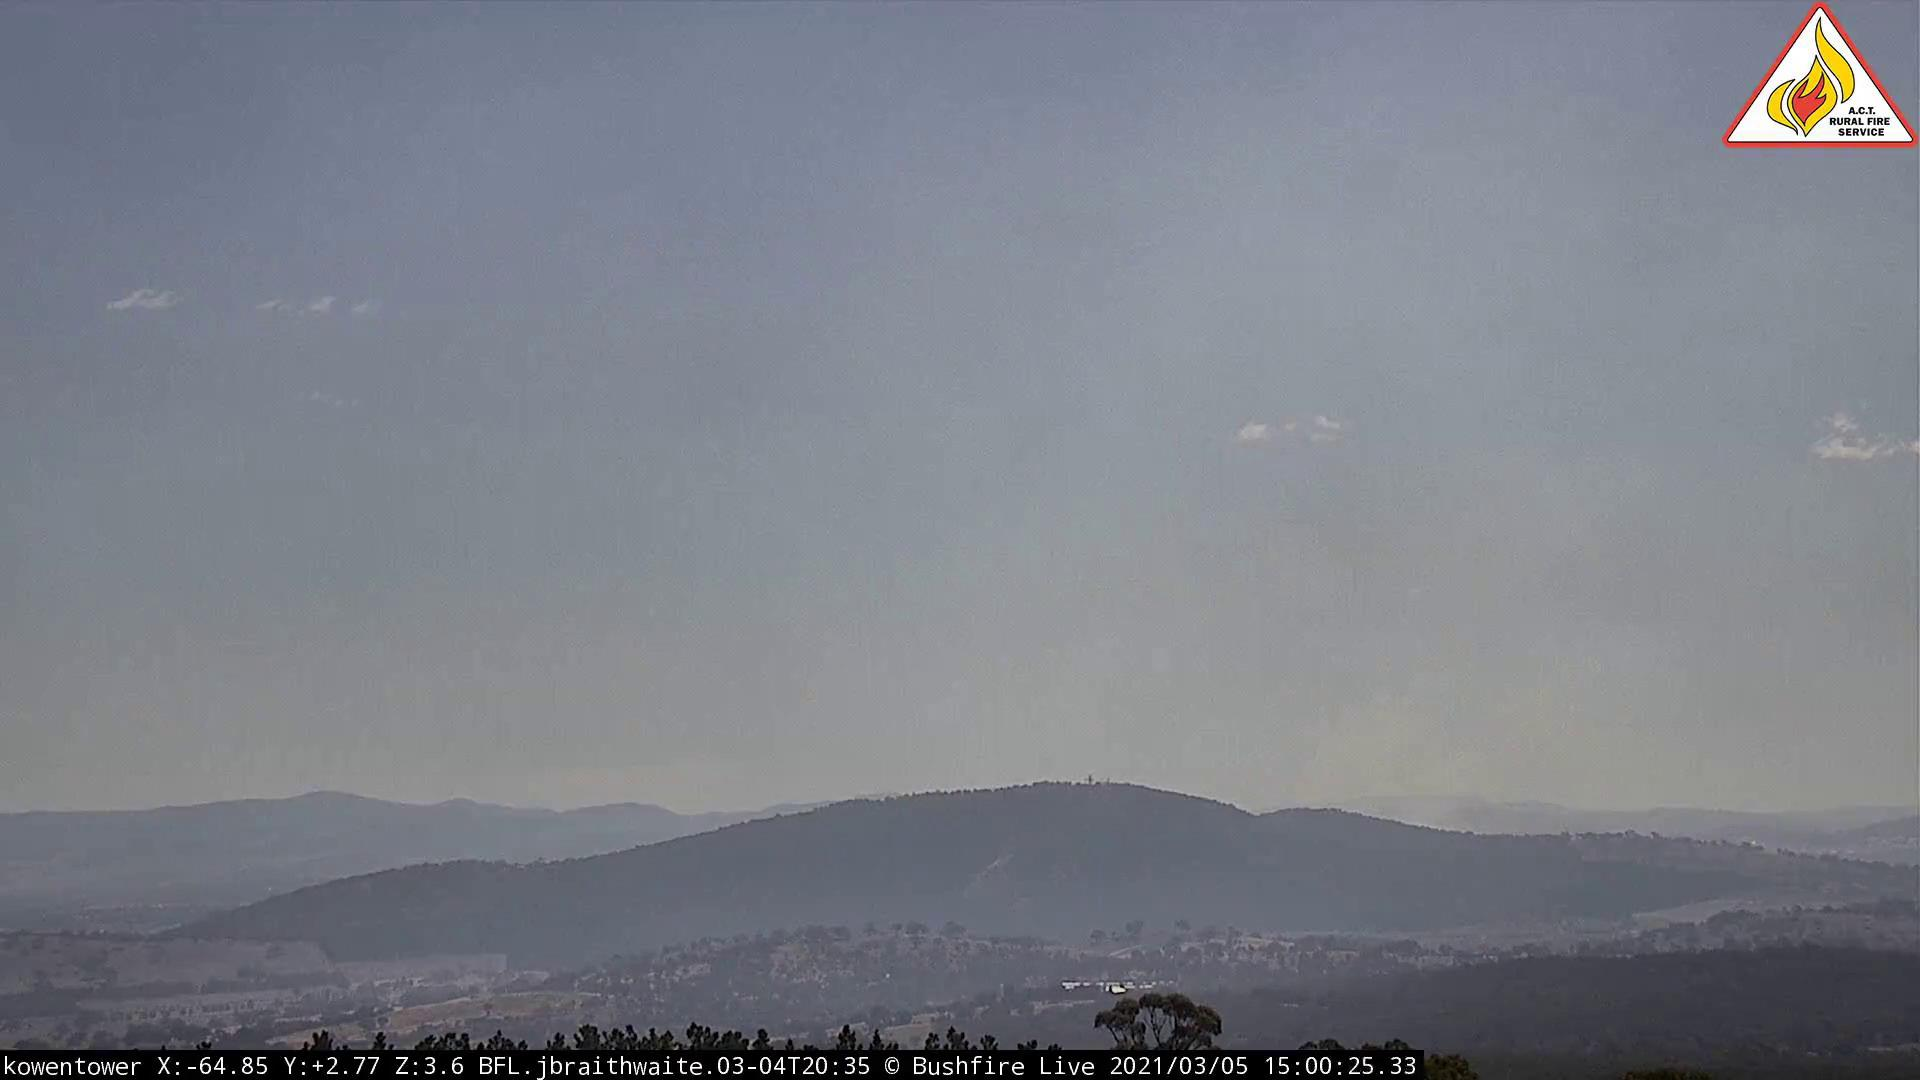Smoke: (1178, 545, 1767, 835)
